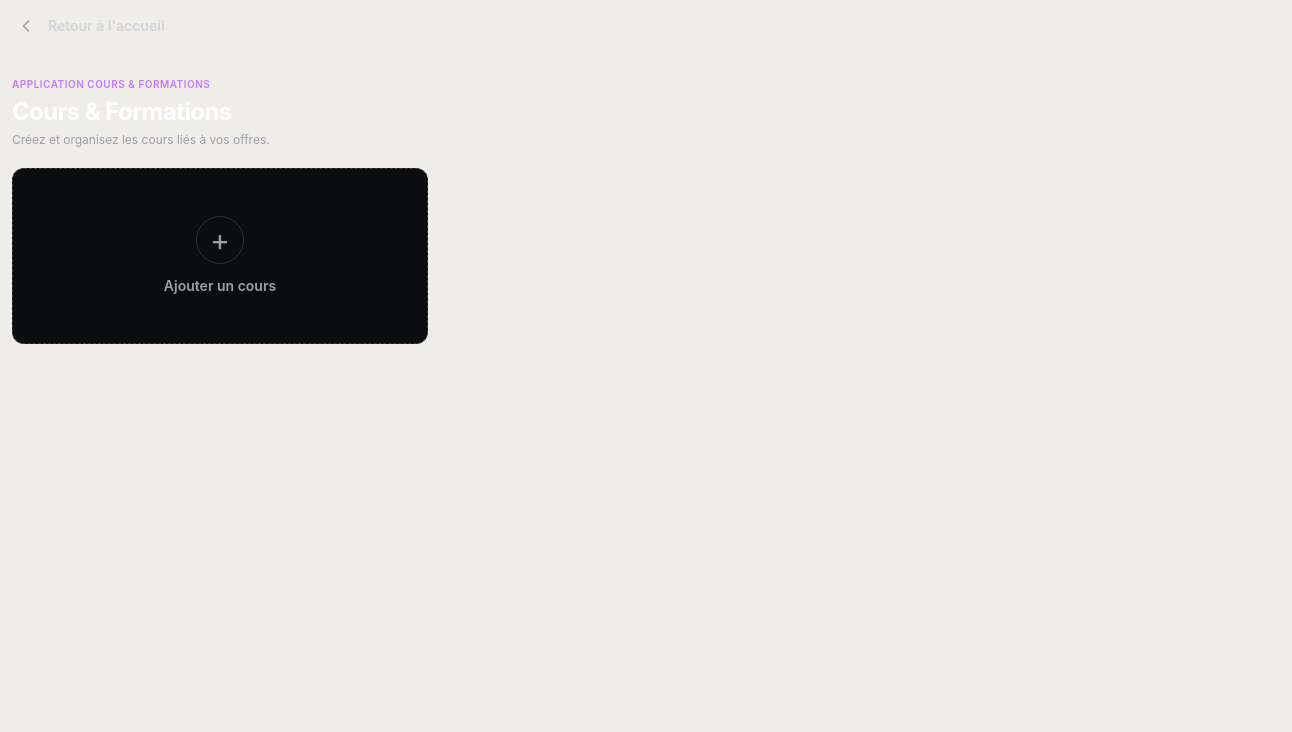
it: navigation catalogue Apps Store vers les workspaces créateur › ramène l’éditeur de cours à l'accueil comme les autres applications
Later steps or results of the test are not shown.
Click the button "+ Ajouter un cours" at (220, 256), box [12,168,428,344]
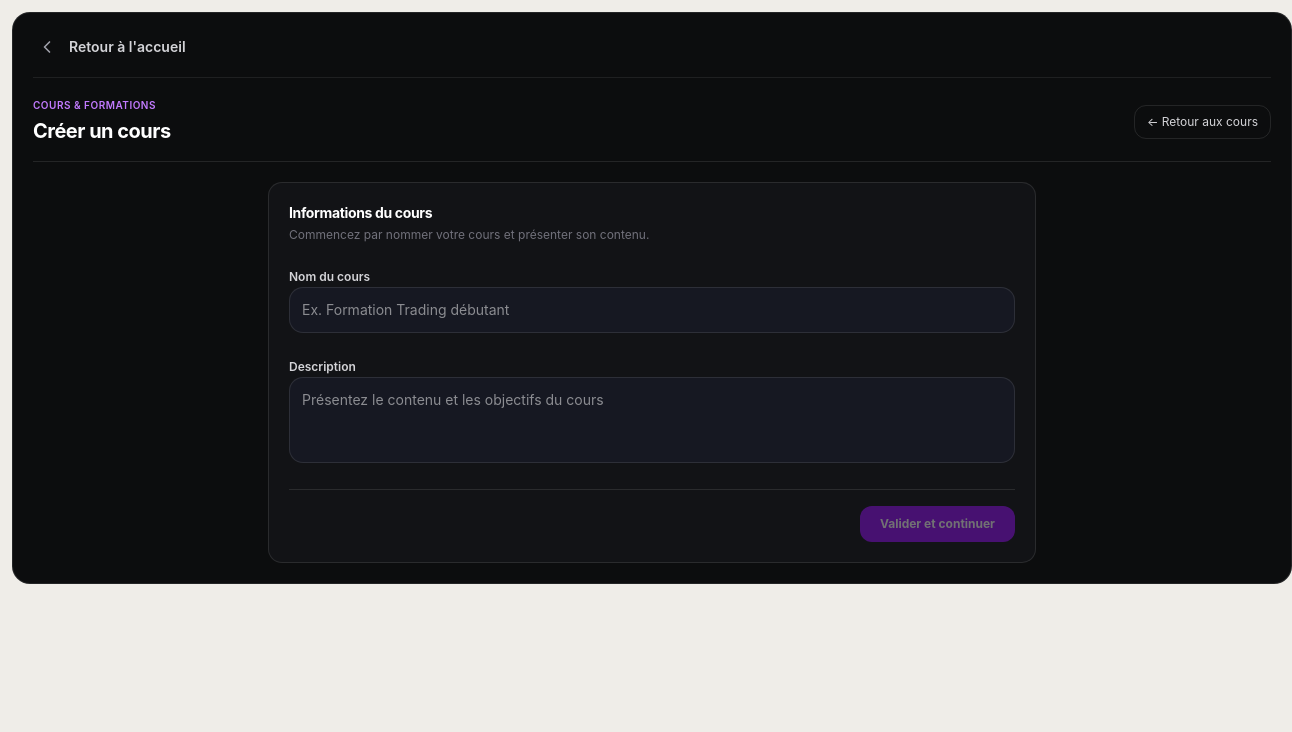
Check: the heading "Informations du cours" is shown, box [289,204,432,221]
